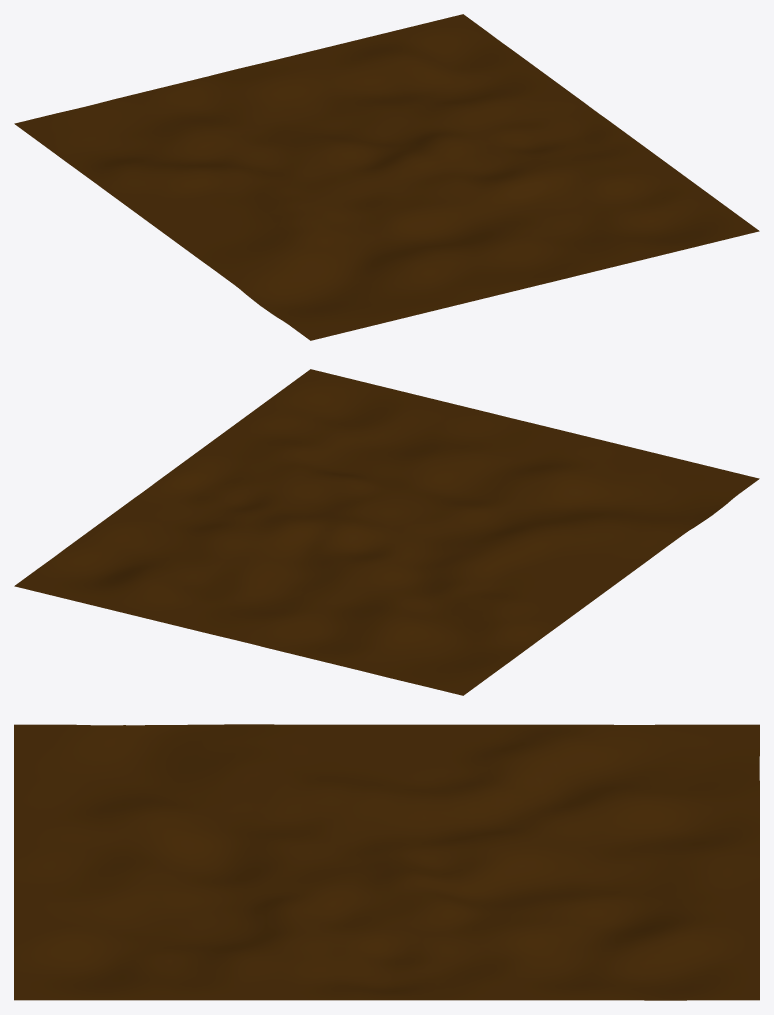
The model's file is chao_nivel_3.glb.
The picture shows the model from 3 angles, top to bottom: view 1: azimuth 30°, elevation 25°; view 2: azimuth 150°, elevation 25°; view 3: azimuth 270°, elevation 25°; orthographic projection. The views are drawn at different scales.
Parts seen in each view (by area): view 1: Cube.001; view 2: Cube.001; view 3: Cube.001.
Boxes of the visible parts, <box> form: Cube.001: <box>14,14,759,340</box>; Cube.001: <box>14,369,759,695</box>; Cube.001: <box>14,724,759,1000</box>.
Bounding box in the file's own units: 63.53 × 1.85 × 72.5.
